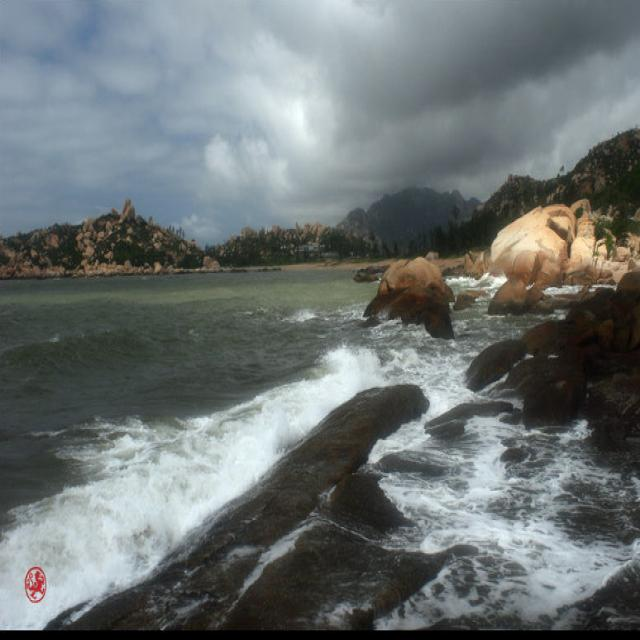reef: (357, 258, 640, 456)
